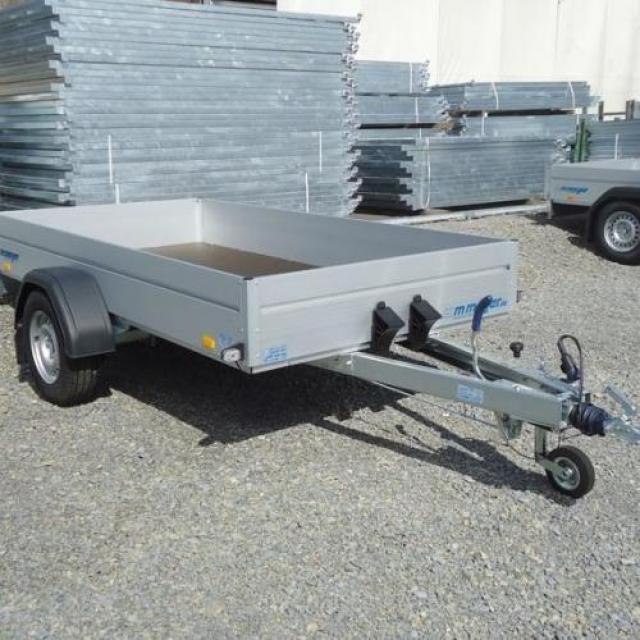trailer: (0, 196, 521, 376)
